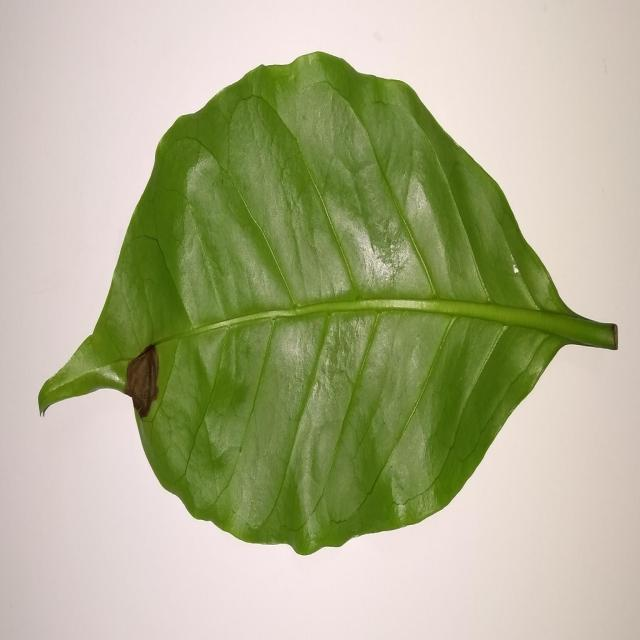Enfermedad-Antracnosis: (36, 52, 620, 559)
